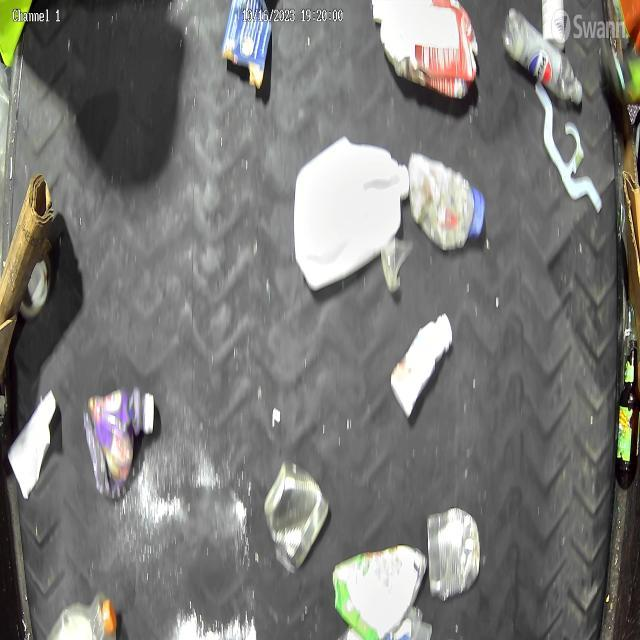can: (262, 457, 330, 576), (425, 504, 483, 604)
milk_jug: (292, 130, 410, 296)
plastic_bottle: (501, 5, 584, 110)
